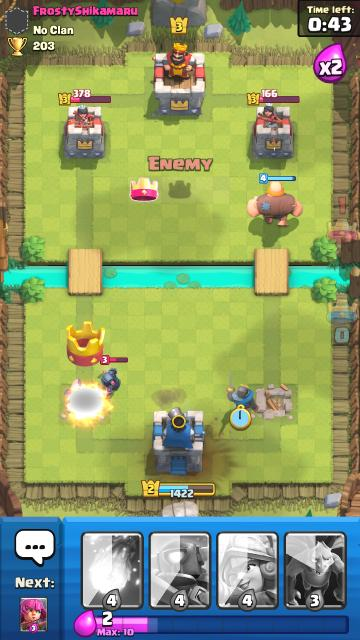ally_melee: (227, 370, 259, 414)
ally_tank: (247, 181, 303, 226)
enemy_melee: (101, 367, 120, 398)
